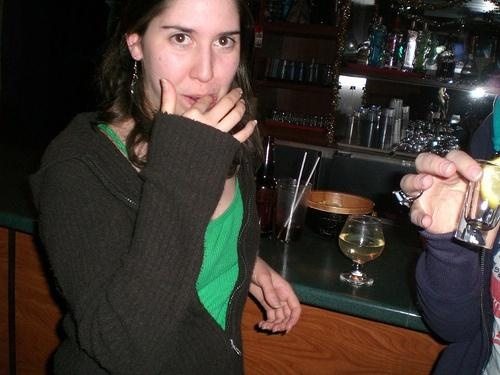face: (146, 0, 240, 115)
hand: (399, 147, 486, 245), (245, 251, 305, 339)
